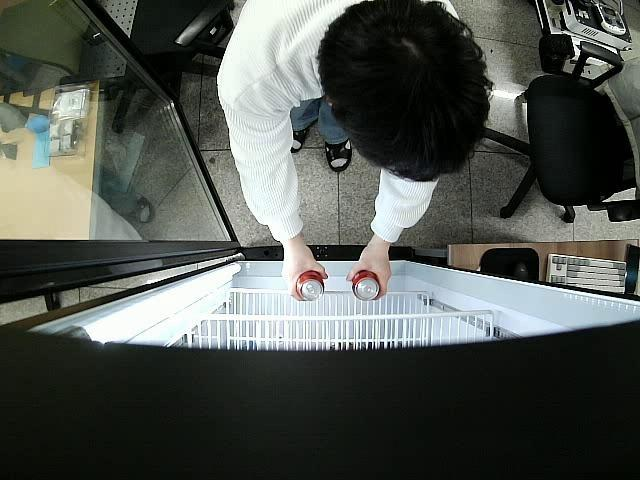11_cocaColaZero: (294, 270, 324, 304), (352, 270, 381, 300)
